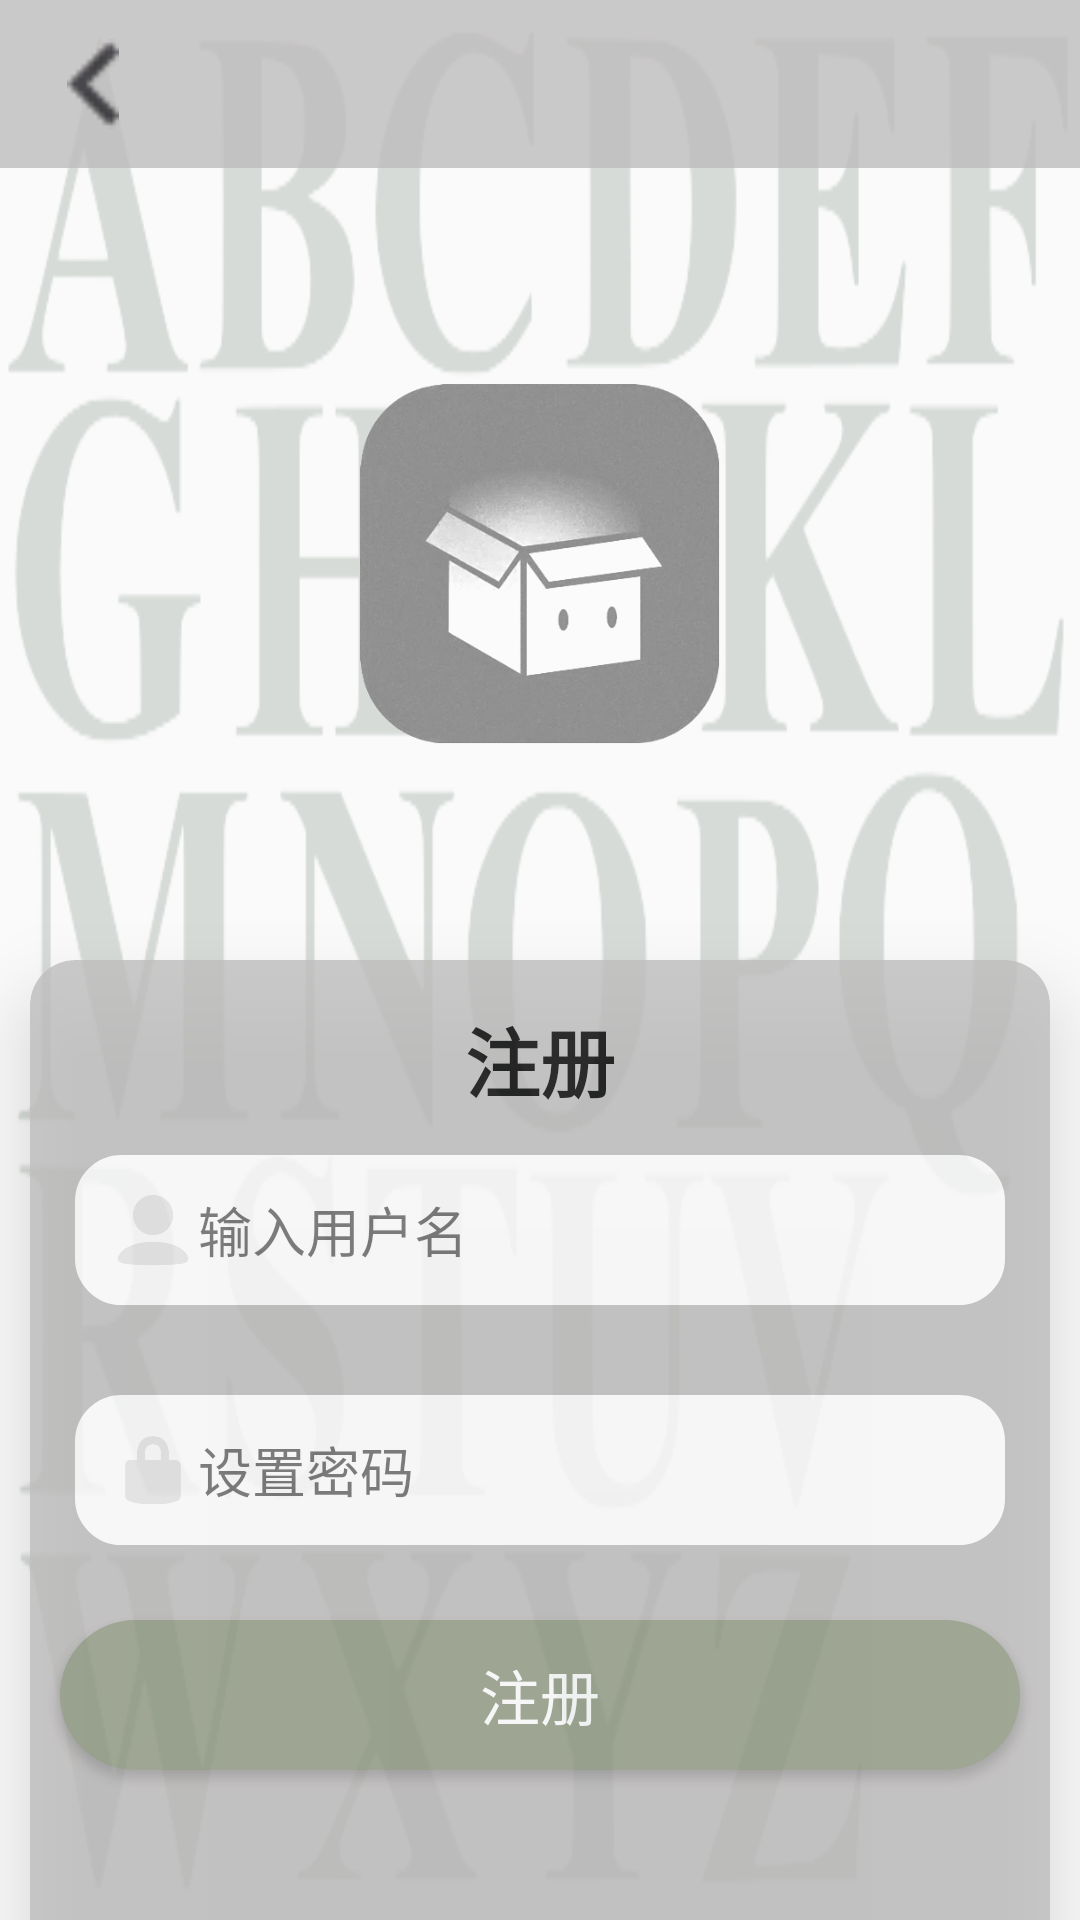

Locate icon controls on the screen. Image size 1080px×1920px, boxes as (x1, y1, x2, y2).
return: (67, 43, 119, 126)
